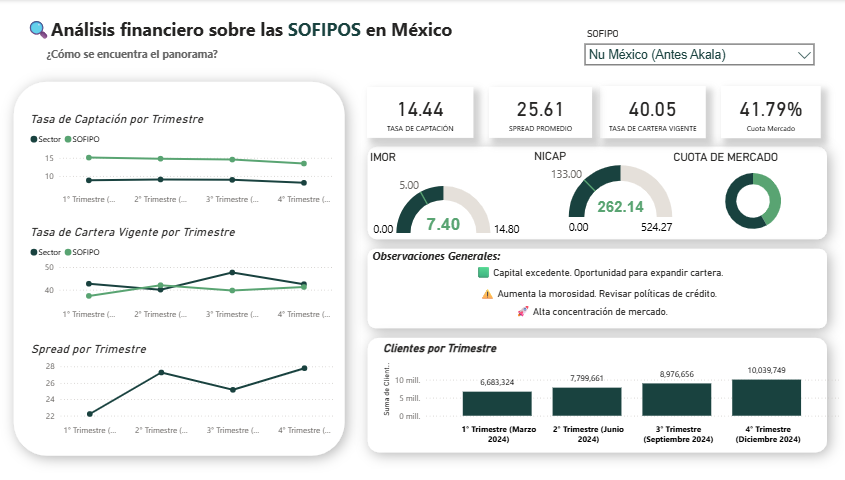

The page's visual inventory and layout, read from the dashboard file:
{"tool":"powerbi","page":{"name":"DASHBOARD","canvas":[1280,720],"ordinal":0},"visuals":[{"type":"shape","box":[528.3,195.4,736.1,188.3],"z":0},{"type":"shape","box":[528.3,348.5,736.1,168.8],"z":1000},{"type":"shape","box":[528.3,480.6,736.1,221.3],"z":2000},{"type":"shape","box":[0,98.6,544.3,608.6],"z":3000},{"type":"gauge","fields":{"Y":["TablaMedidas.Promedio NICAP"]},"box":[789.9,211.6,256.8,156.5],"z":4000},{"type":"slicer","fields":{"Values":["DimSOFIPO.SOFIPO"]},"box":[868.2,39.1,363.2,73.4],"z":5000},{"type":"gauge","fields":{"Y":["TablaMedidas.Promedio IMOR"]},"box":[545.4,214,251.9,163.9],"z":6000},{"type":"lineChart","title":"Tasa de Captación por Trimestre","fields":{"Y":["TablaMedidas.T%Sector_Captación","TablaMedidas.T%SOFIPO_CAPTACIÓN"],"Category":["DimTrimestre.TrimestreTexto"]},"box":[36.7,156.5,483,163.9],"z":7000},{"type":"lineChart","title":"Tasa de Cartera Vigente por Trimestre","fields":{"Y":["TablaMedidas.T%Sector_CarteraVigente","TablaMedidas.T%SOFIPO_CARTVIGENTE"],"Category":["DimTrimestre.TrimestreTexto"]},"box":[36.7,325.3,483,167.5],"z":8000},{"type":"lineChart","title":"Spread por Trimestre","fields":{"Y":["TablaMedidas.Spread"],"Category":["DimTrimestre.TrimestreTexto"]},"box":[38.2,501.1,482.2,165.6],"z":9000},{"type":"clusteredColumnChart","title":"Clientes por Trimestre","fields":{"Y":["Sum(Clientes_Transformada.Clientes)"],"Category":["DimTrimestre.TrimestreTexto"]},"box":[572.3,511.1,692.1,162.6],"z":10000},{"type":"card","fields":{"Values":["TablaMedidas.T%SOFIPO_CAPTACIÓN"]},"box":[552.7,132.1,159,75.8],"z":11000},{"type":"card","fields":{"Values":["TablaMedidas.T%SOFIPO_CARTVIGENTE"]},"box":[901.2,129.6,157.7,78.3],"z":12000},{"type":"card","fields":{"Values":["TablaMedidas.MEDIDOR_CAPTACIÓN"]},"box":[557.6,385.2,686,47.7],"z":13000},{"type":"card","fields":{"Values":["TablaMedidas.MEDIDOR_IMOR"]},"box":[556.4,417,686,48.9],"z":14000},{"type":"card","fields":{"Values":["TablaMedidas.SpreadPromedio"]},"box":[734.9,132.1,154.1,75.8],"z":15000},{"type":"donutChart","title":"CUOTA DE MERCADO","fields":{"Y":["TablaMedidas.Cuota_Mercado","TablaMedidas.Resto_Mercado"]},"box":[1005.2,226,248.2,133.3],"z":16000},{"type":"card","fields":{"Values":["TablaMedidas.InterpretacionCuota"]},"box":[545.4,446.3,686,41.6],"z":17000},{"type":"textbox","box":[38.6,21.4,695.7,54.3],"z":18000},{"type":"textbox","box":[556.4,366.8,382.7,36.7],"z":19000},{"type":"card","fields":{"Values":["TablaMedidas.Cuota_Mercado"]},"box":[1082.2,129.6,149.2,78.3],"z":20000},{"type":"textbox","box":[68.5,66,335.1,33],"z":21000}]}

Visuals, with their boxes in screenshot pixels (x1, y1, x2, y2), scaled from the page's 1280x720 canvas onto the 845x480 screenshot:
shape: [349, 130, 835, 256]
shape: [349, 232, 835, 345]
shape: [349, 320, 835, 468]
shape: [0, 66, 359, 471]
gauge - TablaMedidas.Promedio NICAP: [521, 141, 691, 245]
slicer - DimSOFIPO.SOFIPO: [573, 26, 813, 75]
gauge - TablaMedidas.Promedio IMOR: [360, 143, 526, 252]
"Tasa de Captación por Trimestre" lineChart: [24, 104, 343, 214]
"Tasa de Cartera Vigente por Trimestre" lineChart: [24, 217, 343, 329]
"Spread por Trimestre" lineChart: [25, 334, 344, 444]
"Clientes por Trimestre" clusteredColumnChart: [378, 341, 835, 449]
card - TablaMedidas.T%SOFIPO_CAPTACIÓN: [365, 88, 470, 139]
card - TablaMedidas.T%SOFIPO_CARTVIGENTE: [595, 86, 699, 139]
card - TablaMedidas.MEDIDOR_CAPTACIÓN: [368, 257, 821, 289]
card - TablaMedidas.MEDIDOR_IMOR: [367, 278, 820, 311]
card - TablaMedidas.SpreadPromedio: [485, 88, 587, 139]
"CUOTA DE MERCADO" donutChart: [664, 151, 827, 240]
card - TablaMedidas.InterpretacionCuota: [360, 298, 813, 325]
textbox: [25, 14, 485, 50]
textbox: [367, 245, 620, 269]
card - TablaMedidas.Cuota_Mercado: [714, 86, 813, 139]
textbox: [45, 44, 266, 66]
